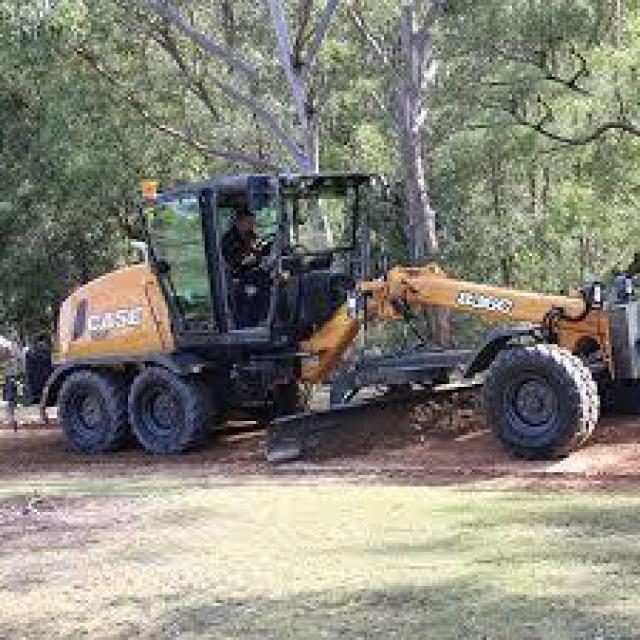buldozerpayloadergrader: (20, 154, 637, 469)
